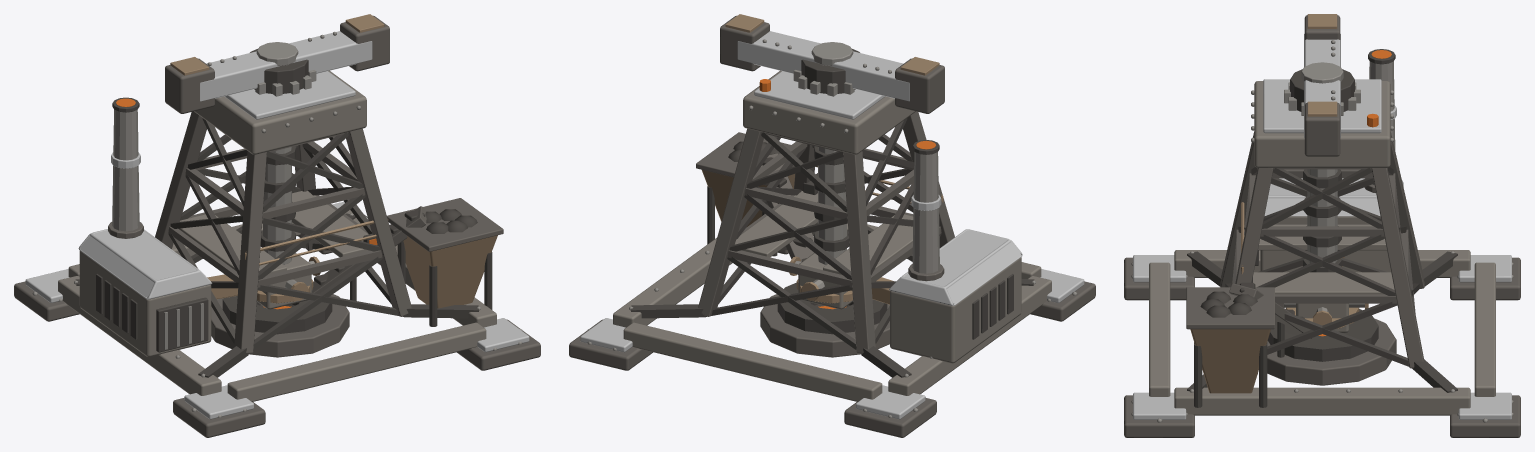
File: crucible_metal_extractor.glb
The picture shows the model from 3 angles, left to right: view 1: azimuth 30°, elevation 25°; view 2: azimuth 150°, elevation 25°; view 3: azimuth 270°, elevation 25°; orthographic projection. The views are drawn at different scales.
Visible parts, largest first — view 1: Body, Rotor_Y; view 2: Body, Rotor_Y; view 3: Body, Rotor_Y.
Boxes of the visible parts, x1,y1,x2,y2 form: Body: [14, 70, 540, 437]; Rotor_Y: [165, 14, 389, 113]; Body: [569, 70, 1095, 437]; Rotor_Y: [720, 14, 944, 113]; Body: [1124, 49, 1520, 437]; Rotor_Y: [1284, 14, 1360, 156].
Bounding box in the file's own units: 6.7 × 5.43 × 6.7.
